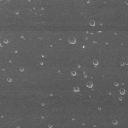corrosion: (67, 35, 76, 46), (85, 80, 94, 89), (69, 70, 79, 78), (71, 85, 81, 93), (91, 59, 100, 67), (117, 88, 126, 96), (111, 118, 119, 127), (88, 20, 96, 28), (18, 65, 26, 73), (112, 80, 120, 88), (5, 76, 14, 83), (1, 38, 9, 45), (47, 91, 54, 98), (39, 60, 45, 67), (82, 71, 88, 78), (97, 104, 103, 111), (19, 34, 25, 40), (40, 53, 45, 59)
